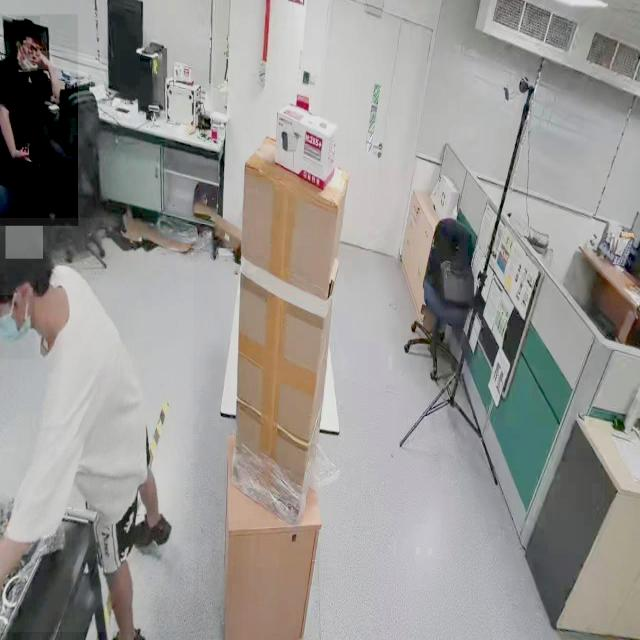face_mask: (0, 295, 35, 359)
hand_noglove: (15, 140, 33, 164), (37, 51, 54, 70)
head_nohelmet: (6, 226, 44, 260), (16, 16, 40, 36)
person: (0, 218, 194, 633), (0, 14, 78, 225)
shoes: (127, 512, 173, 550)
